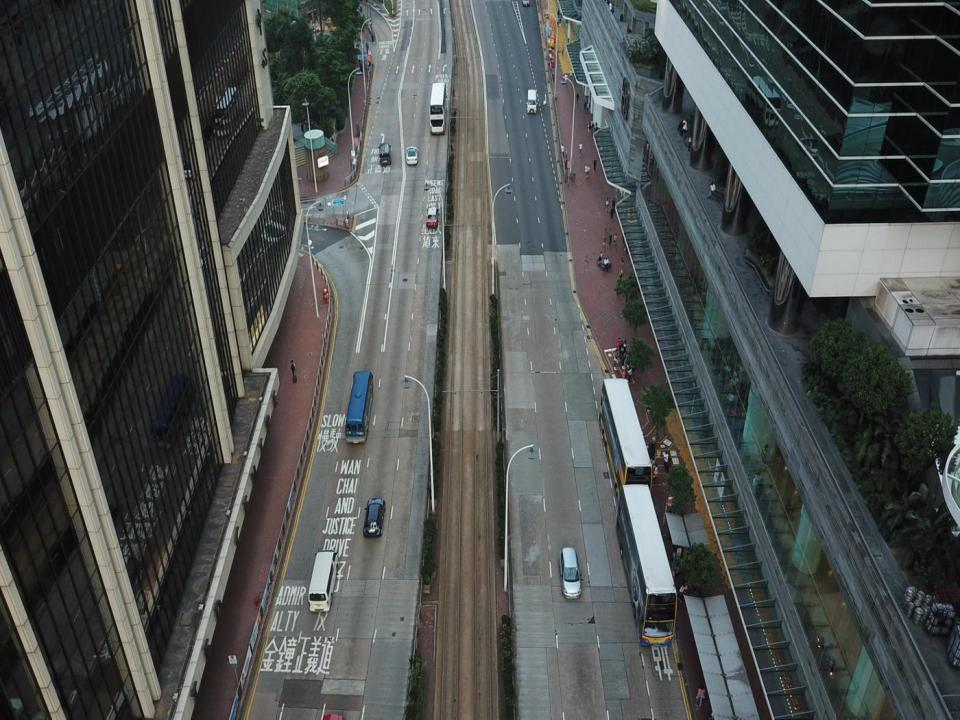bus: (616, 483, 677, 644), (598, 378, 651, 505), (345, 371, 374, 443), (430, 82, 447, 134)
car: (558, 548, 582, 600), (363, 498, 386, 536), (378, 142, 391, 166), (426, 206, 438, 228), (406, 146, 418, 165), (522, 0, 530, 7)
van: (309, 549, 338, 612), (526, 90, 538, 114)
